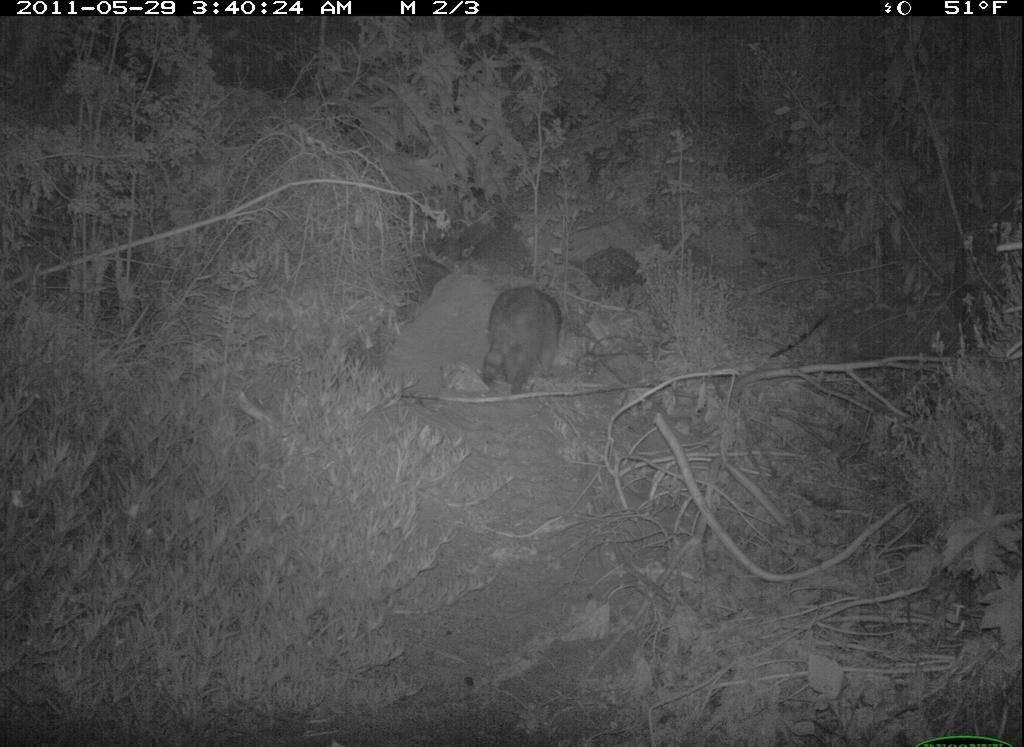raccoon: (472, 280, 591, 402)
